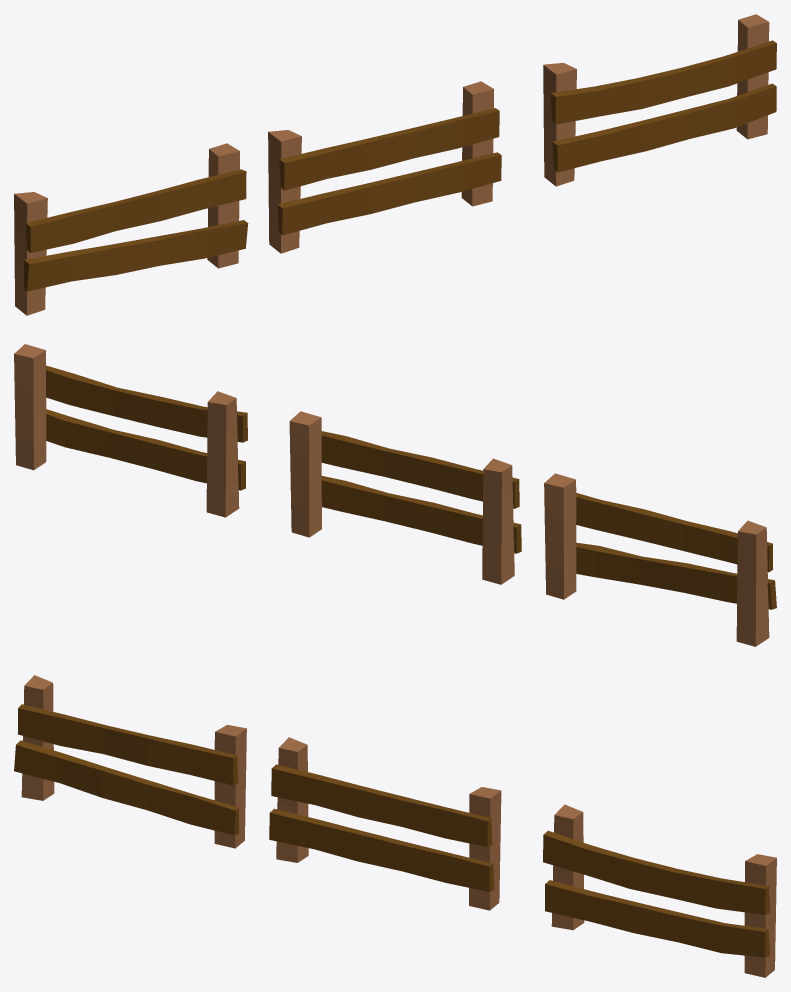
The model's file is Zäune.fbx.
3 views of the same model, one above another, from view 1: azimuth 30°, elevation 25°; view 2: azimuth 150°, elevation 25°; view 3: azimuth 330°, elevation 25° (orthographic).
Parts seen in each view (by area): view 1: Cube.007, Cube.008, Cube.002, Cube.001, Cube.004, Cube.005, Zaun2, Zaun1, Zaun3; view 2: Zaun2, Zaun3, Zaun1, Cube.007, Cube.004, Cube.001, Cube.002, Cube.008, Cube.005; view 3: Cube.007, Cube.005, Cube.002, Cube.001, Cube.008, Cube.004, Zaun1, Zaun2, Zaun3.
Part boxes in pixels (x1,y1,x2,y2): Cube.007: (550,40,776,124); Cube.008: (552,83,776,172); Cube.002: (277,152,501,235); Cube.001: (279,108,499,190); Cube.004: (25,169,246,252); Cube.005: (23,220,248,291); Zaun2: (14,143,239,315); Zaun1: (268,81,494,253); Zaun3: (543,14,769,186); Zaun2: (544,473,769,646); Zaun3: (14,344,239,517); Zaun1: (289,411,514,584); Cube.007: (46,365,247,442); Cube.004: (576,493,773,572); Cube.001: (321,431,519,508); Cube.002: (321,476,521,553); Cube.008: (46,409,245,490); Cube.005: (576,542,776,609); Cube.007: (543,830,769,914); Cube.005: (14,740,238,835); Cube.002: (269,808,494,891); Cube.001: (271,764,492,847); Cube.008: (545,880,769,957); Cube.004: (18,704,238,785); Zaun1: (276,737,501,910); Zaun2: (21,675,246,848); Zaun3: (551,804,776,977).
Size of the model in its own units: 56.23 by 201 by 1399.
